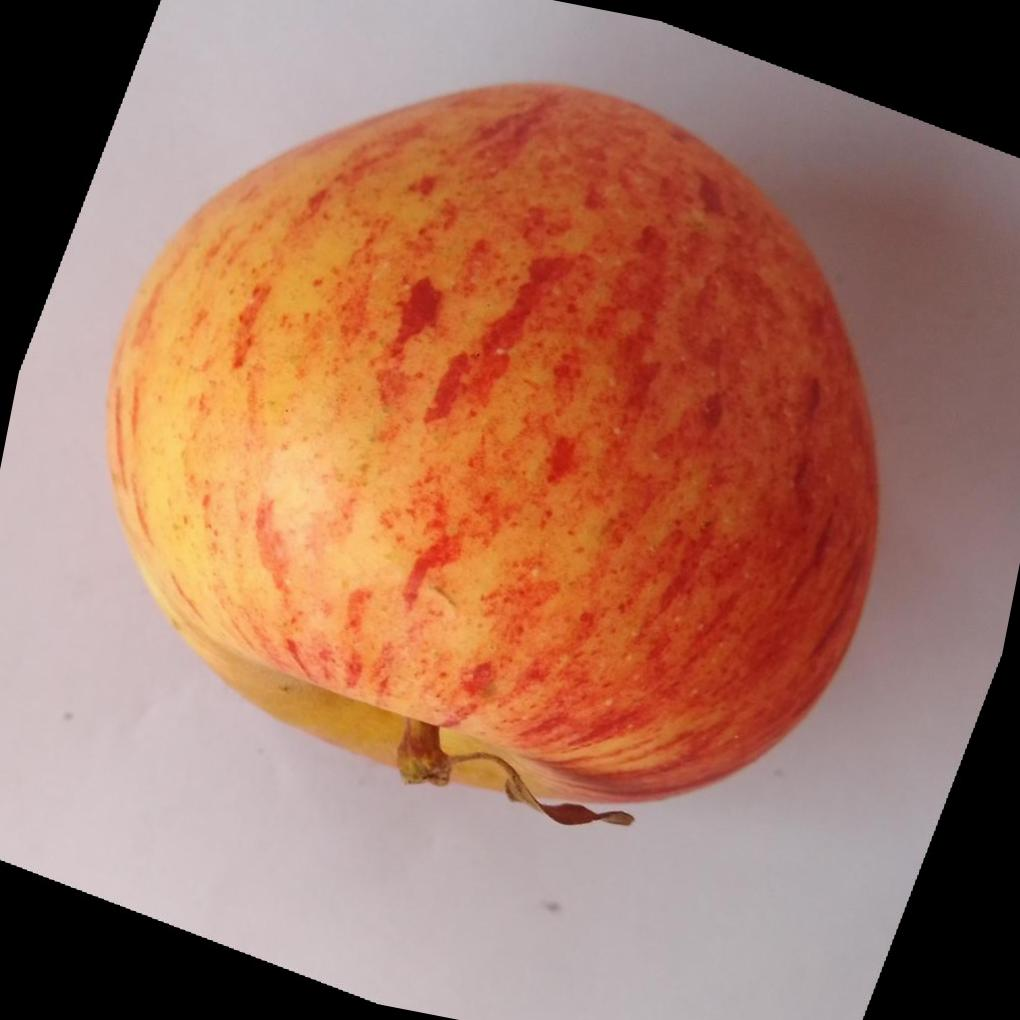FreshGuava: (105, 78, 882, 808)
